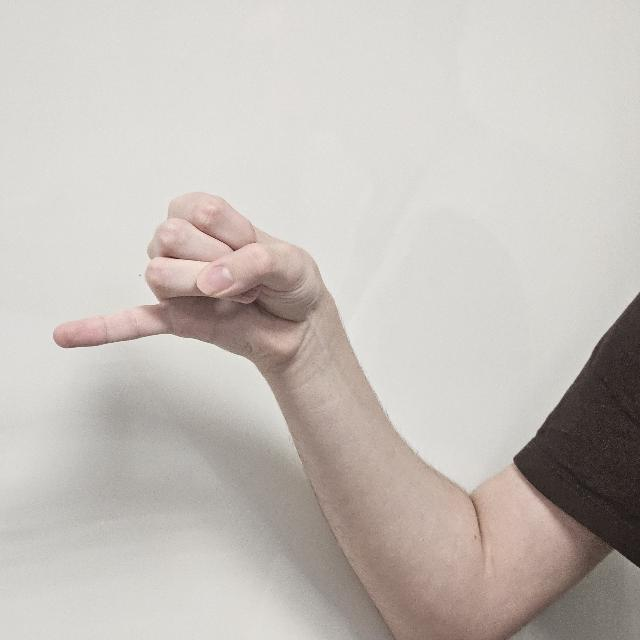Esquerda: (44, 158, 360, 450)
